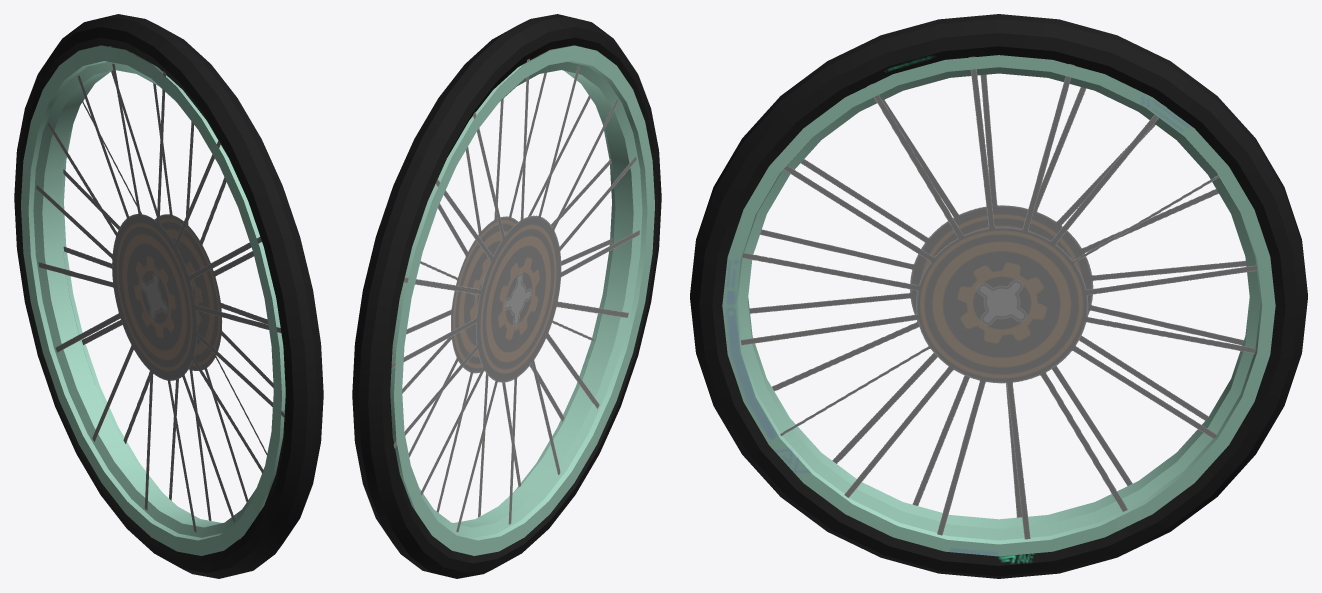
File: LLANTA_SEPARADA2.fbx
3 views of the same model, side by side, from view 1: azimuth 30°, elevation 25°; view 2: azimuth 150°, elevation 25°; view 3: azimuth 270°, elevation 25° (orthographic). The views are drawn at different scales.
Visible parts, largest first — view 1: WHE_SEPARADA; view 2: WHE_SEPARADA; view 3: WHE_SEPARADA.
Boxes of the visible parts, bbox=[...] form: WHE_SEPARADA: bbox=[14, 14, 323, 578]; WHE_SEPARADA: bbox=[352, 14, 661, 578]; WHE_SEPARADA: bbox=[690, 14, 1307, 578].
Size of the model in its own units: 5.93 by 82.09 by 82.09.
